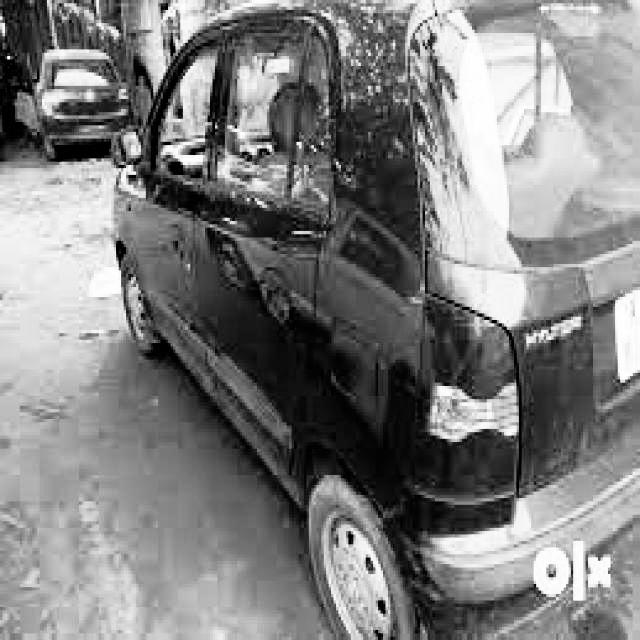Car: (118, 16, 640, 544)
